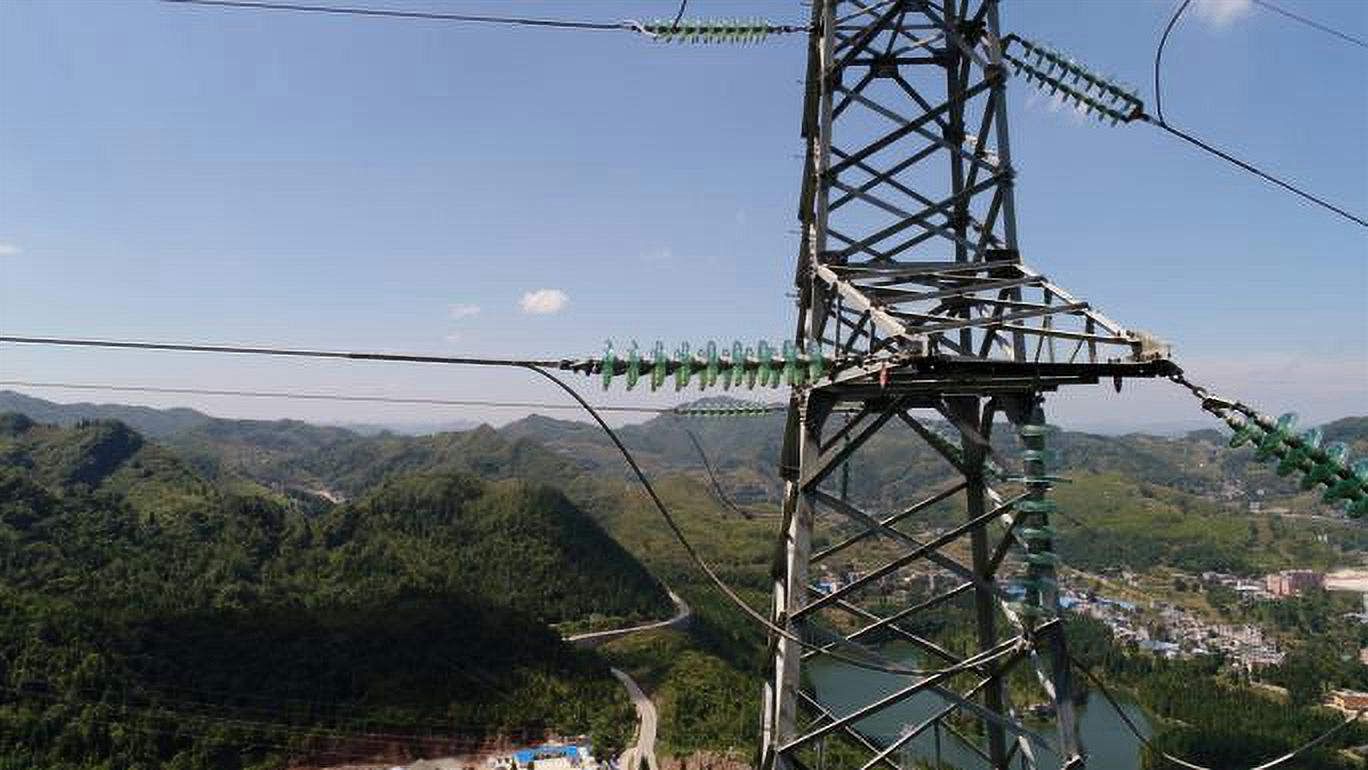insulator: (1225, 409, 1368, 524), (1005, 413, 1076, 625), (593, 333, 824, 397), (1009, 30, 1146, 132), (646, 12, 773, 50)
